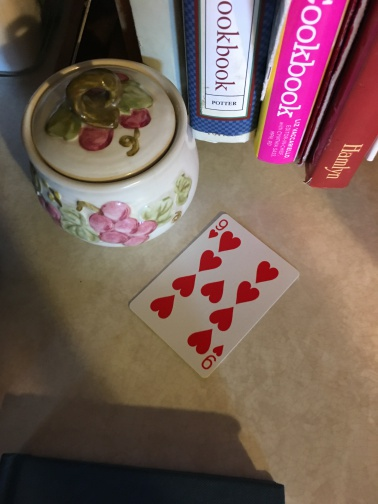nine: (128, 213, 301, 379)
